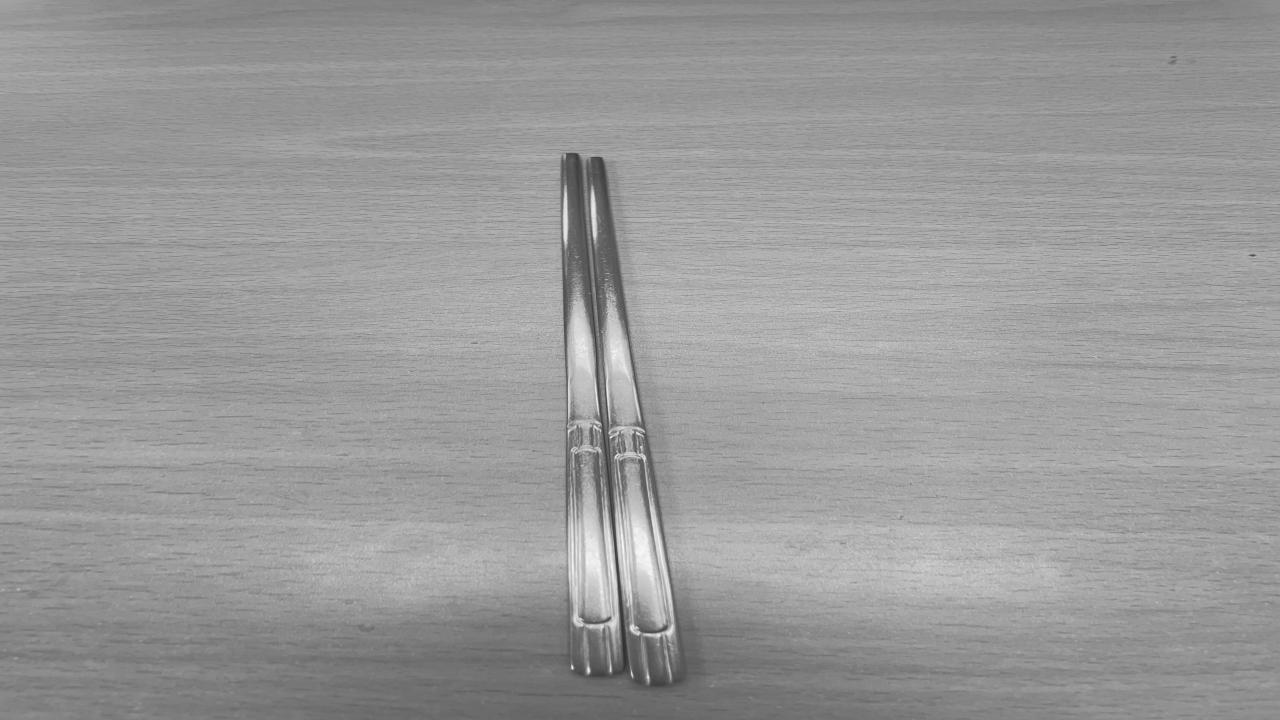chopstick: (563, 153, 688, 682)
